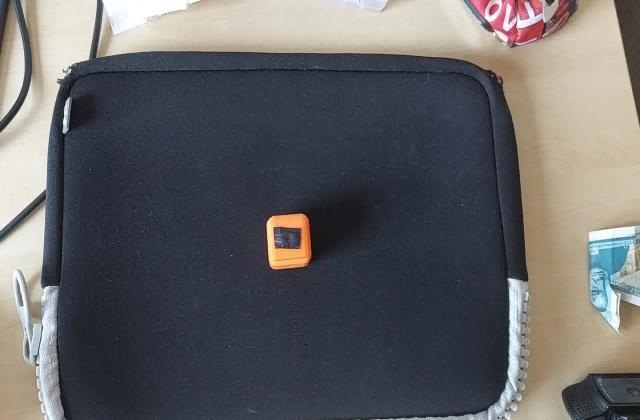black: (270, 224, 304, 253)
sticker: (264, 212, 314, 273)
